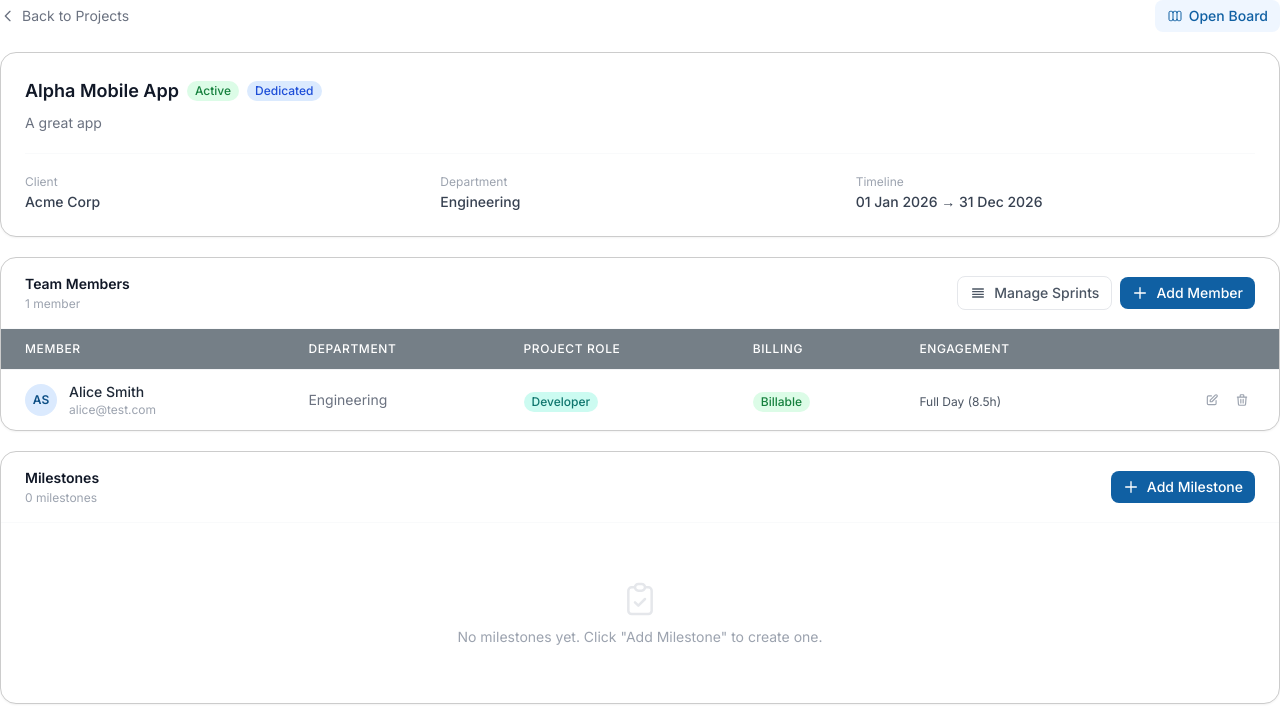
it: ProjectDetailPage_AddMember_OpensModal
expect the heading "Alpha Mobile App" is shown: met, box [25,77,179,105]
Click the button "Add Member": (1188,293) [1120,277,1255,309]
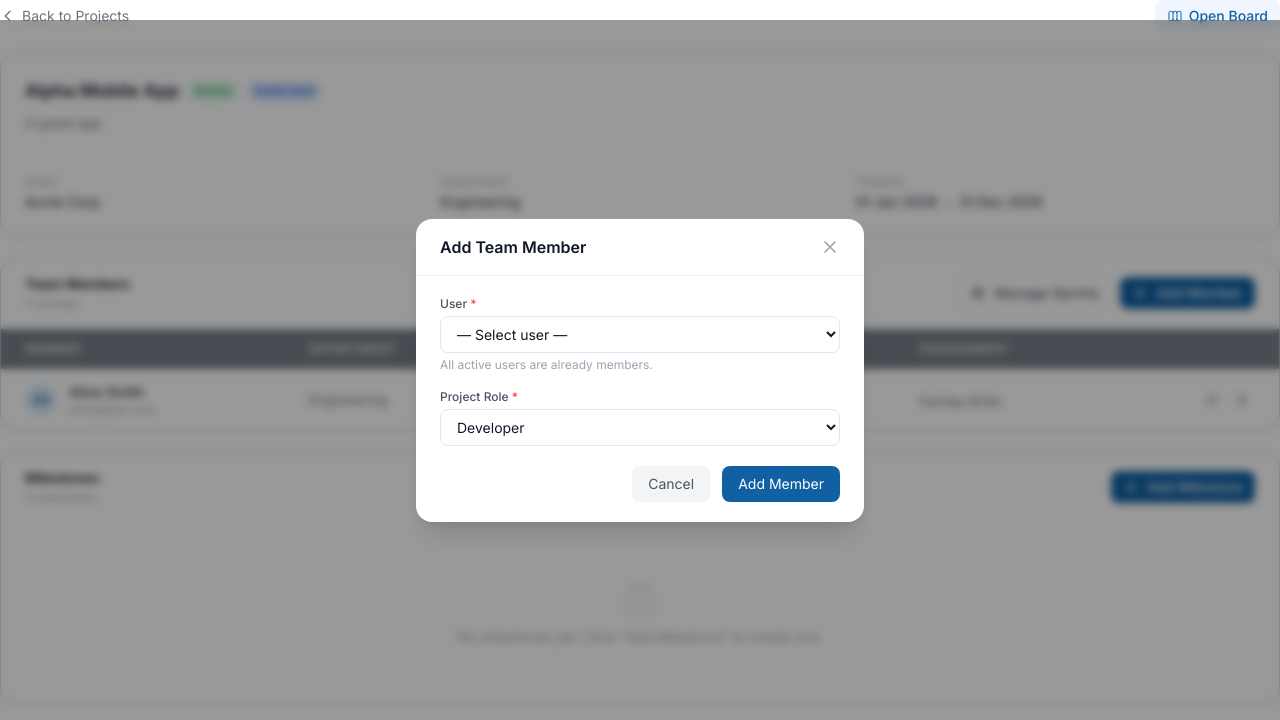
expect the heading "Add Team Member" is shown: met, box [440,234,586,258]
